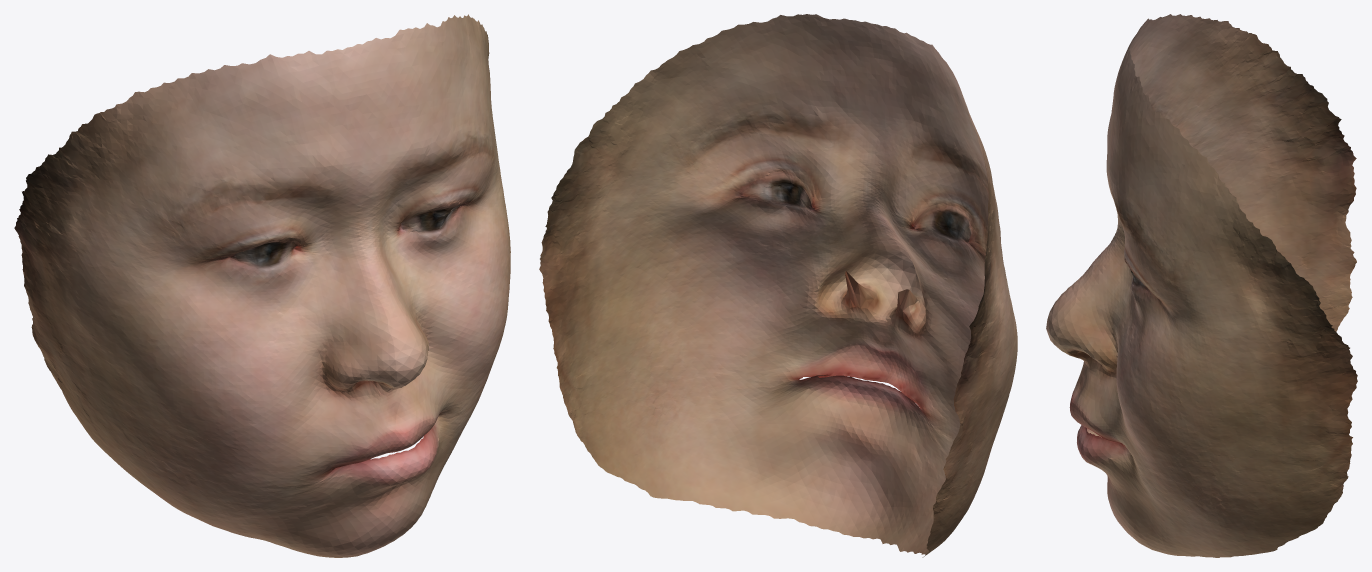
The model's file is before_face.obj.
3 renders of one model, left to right at view 1: azimuth 30°, elevation 25°; view 2: azimuth 150°, elevation 25°; view 3: azimuth 270°, elevation 25°, orthographic. The views are drawn at different scales.
Size of the model in its own units: 2.01 by 2.25 by 1.31.
